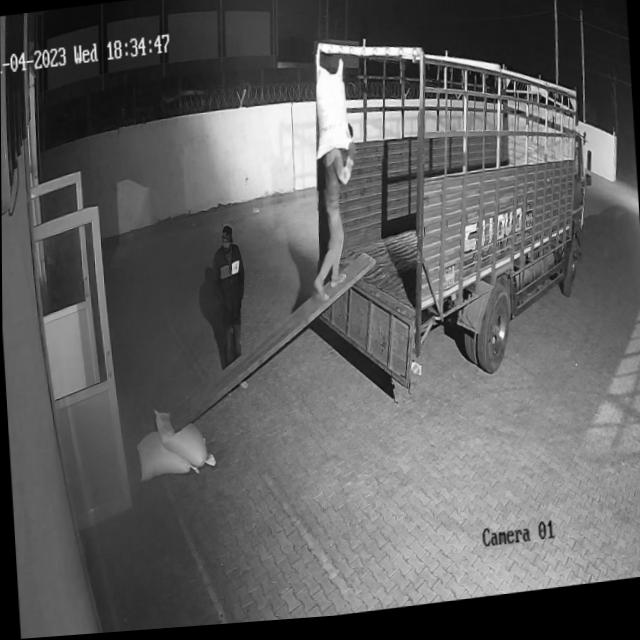sack: (309, 59, 353, 165), (153, 404, 214, 475), (136, 428, 200, 484)
